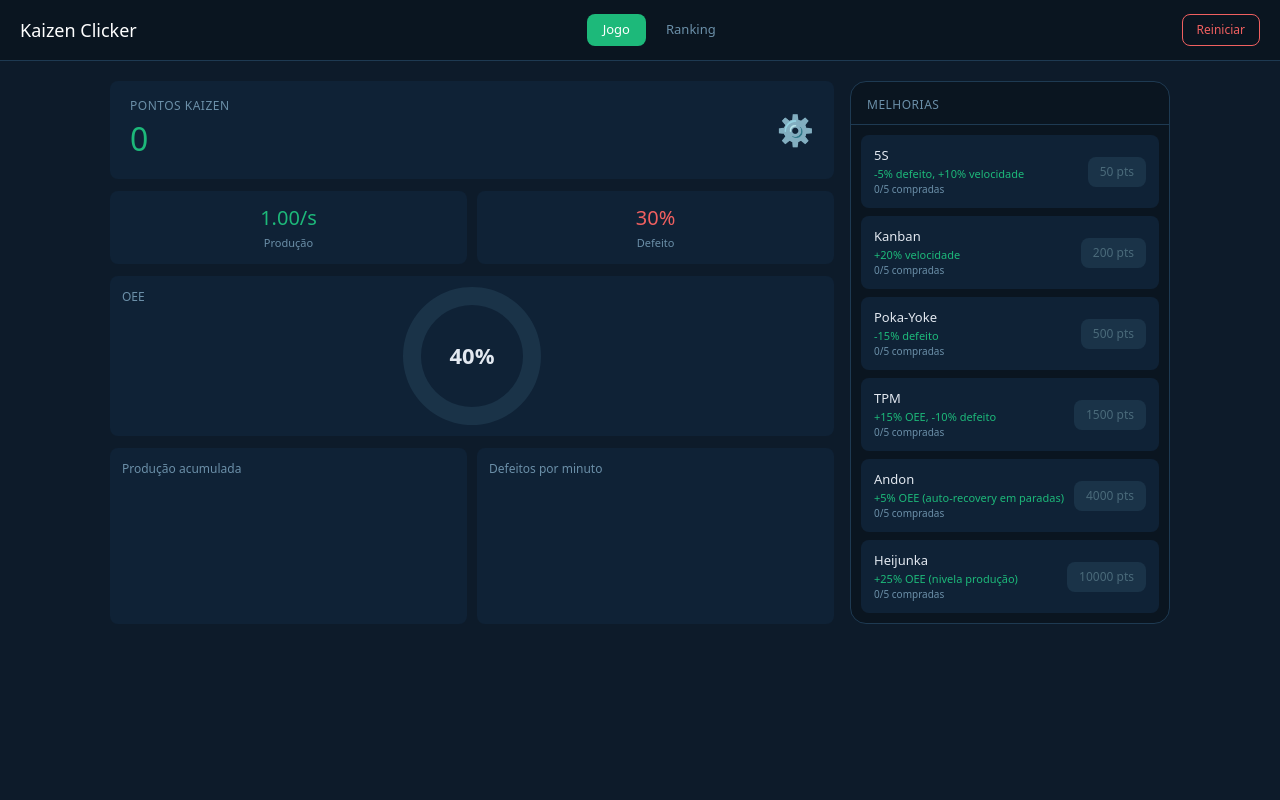
App › volta para a tela do Jogo ao clicar no botão correspondente
The width and height of the screenshot is (1280, 800).
Click the button "Ranking": (691, 30) [650,14,732,46]
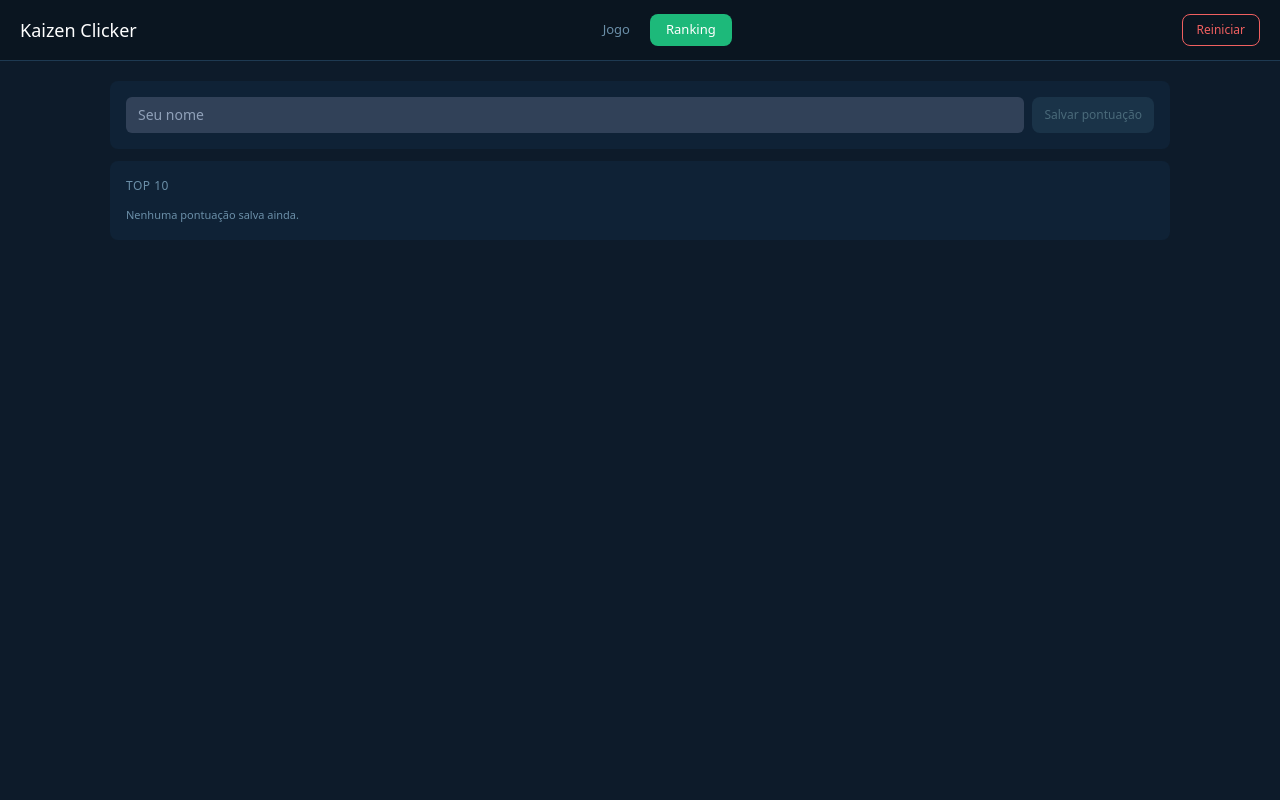
Click the button "Jogo": (616, 30) [587,14,646,46]
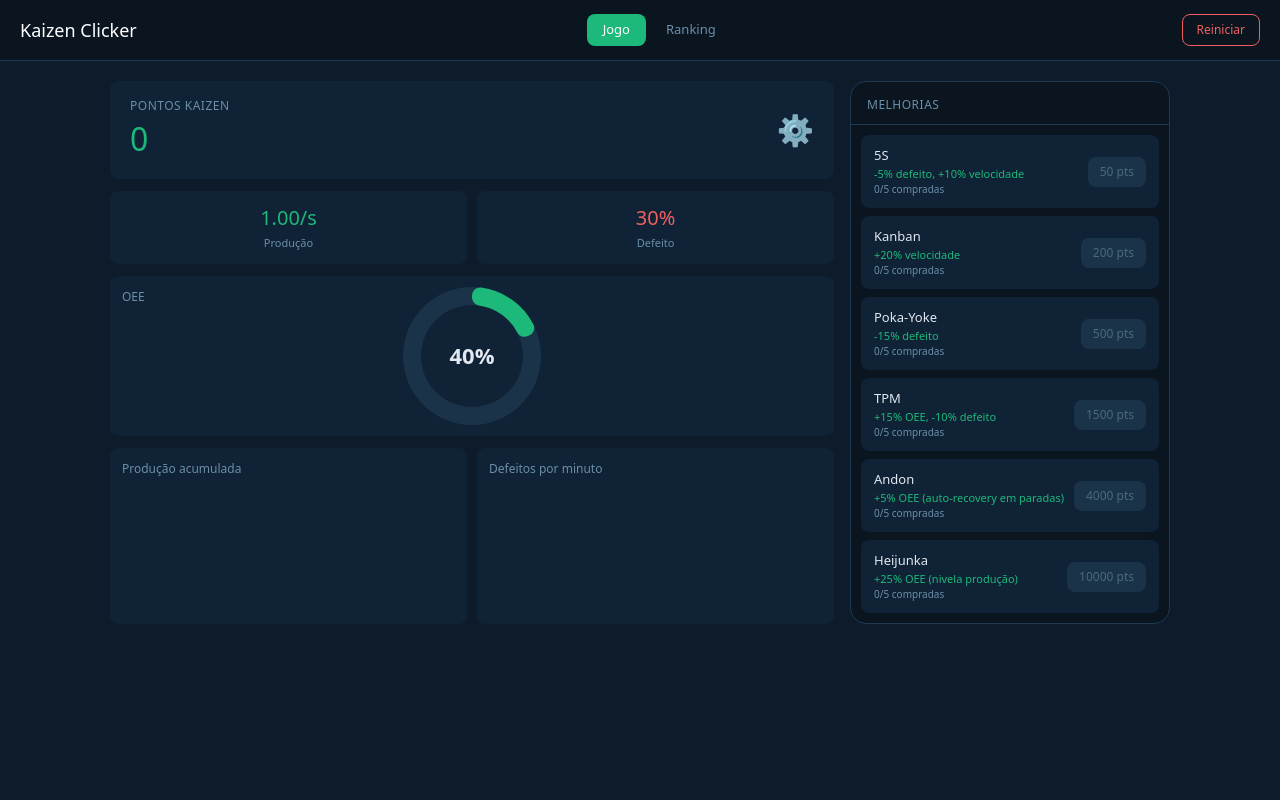
expect the text "Pontos Kaizen" is shown: met, box [130,97,230,115]
